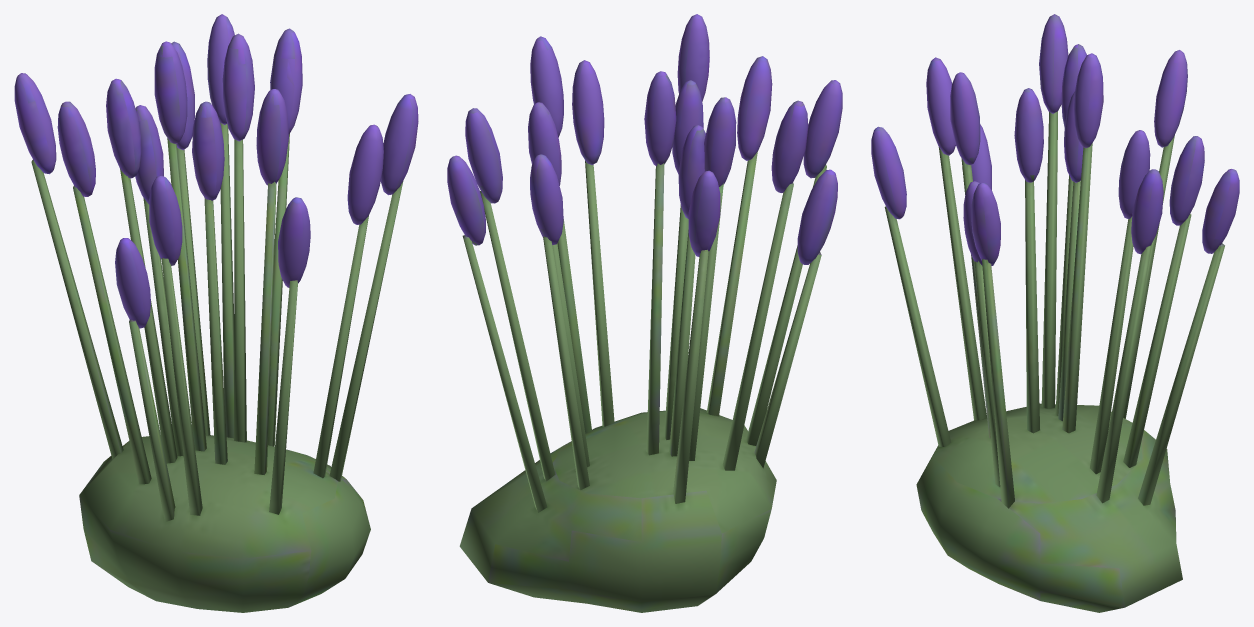
File: crop_lavender.glb
The picture shows the model from 3 angles, left to right: view 1: azimuth 30°, elevation 25°; view 2: azimuth 150°, elevation 25°; view 3: azimuth 270°, elevation 25°; orthographic projection. The views are drawn at different scales.
Visible parts, largest first — view 1: crop_lavender, fruit; view 2: crop_lavender, fruit; view 3: crop_lavender, fruit.
Part boxes in pixels (left/top/right/bottom): crop_lavender: left=31, top=122, right=403, bottom=612; fruit: left=14, top=14, right=418, bottom=328; crop_lavender: left=459, top=151, right=826, bottom=612; fruit: left=447, top=14, right=842, bottom=264; crop_lavender: left=884, top=111, right=1224, bottom=612; fruit: left=871, top=14, right=1239, bottom=265.
Size of the model in its own units: 0.2284 by 0.3751 by 0.2517.
Materials: 1 (1 with a texture image).
